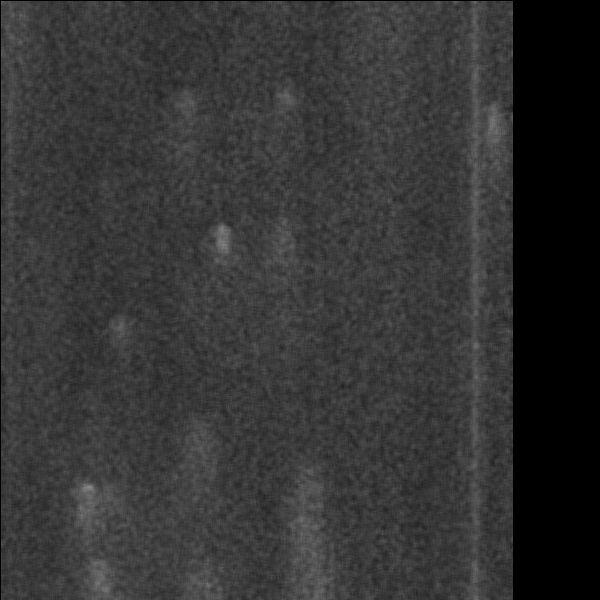spark: (76, 554, 121, 600), (484, 96, 501, 215), (209, 221, 236, 281), (73, 482, 99, 525)
